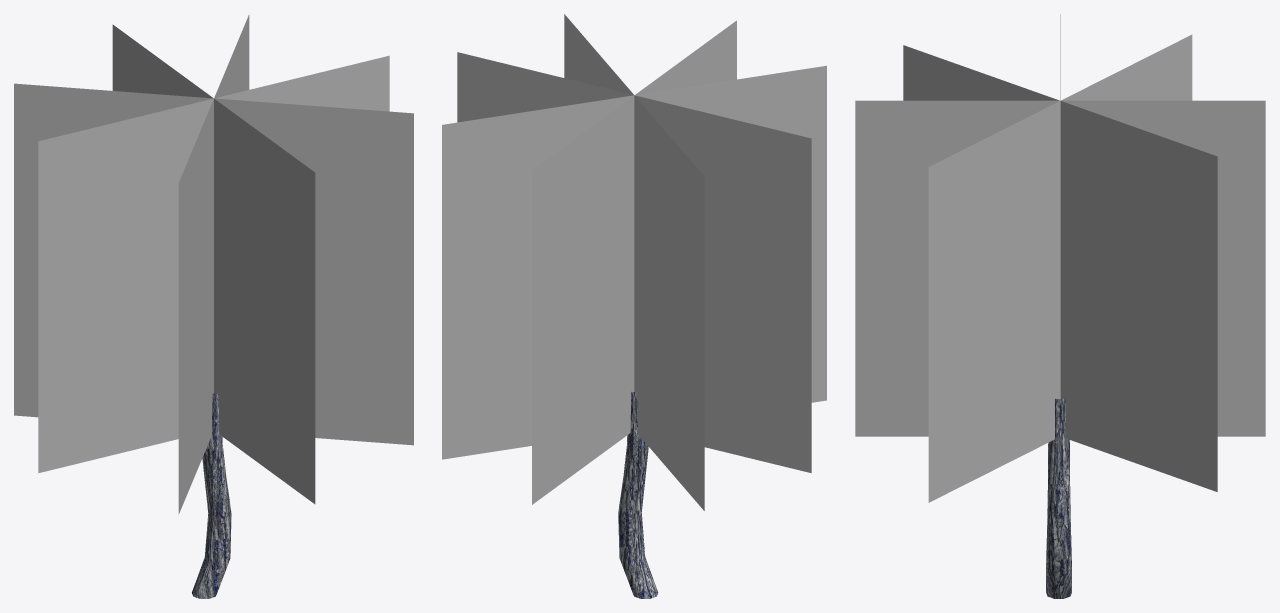
File: arbre rond.FBX
The picture shows the model from 3 angles, left to right: view 1: azimuth 30°, elevation 25°; view 2: azimuth 150°, elevation 25°; view 3: azimuth 270°, elevation 25°; orthographic projection.
Parts seen in each view (by area): view 1: Arbre mignon tout rond; view 2: Arbre mignon tout rond; view 3: Arbre mignon tout rond.
Boxes of the visible parts, x1,y1,x2,y2 form: Arbre mignon tout rond: (14,14,413,598); Arbre mignon tout rond: (442,14,826,598); Arbre mignon tout rond: (855,14,1265,598).
Bounding box in the file's own units: 365 × 489 × 365.
